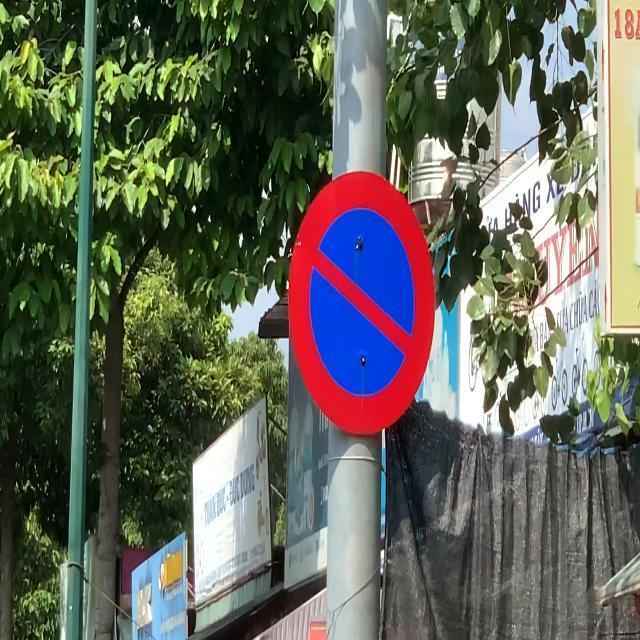131a-cam-do-xe: (286, 171, 434, 431)
